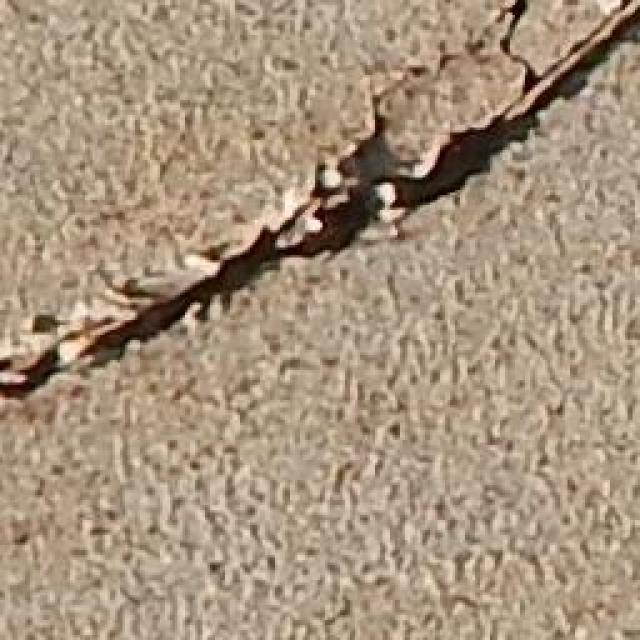concrete-crack: (0, 0, 640, 408)
